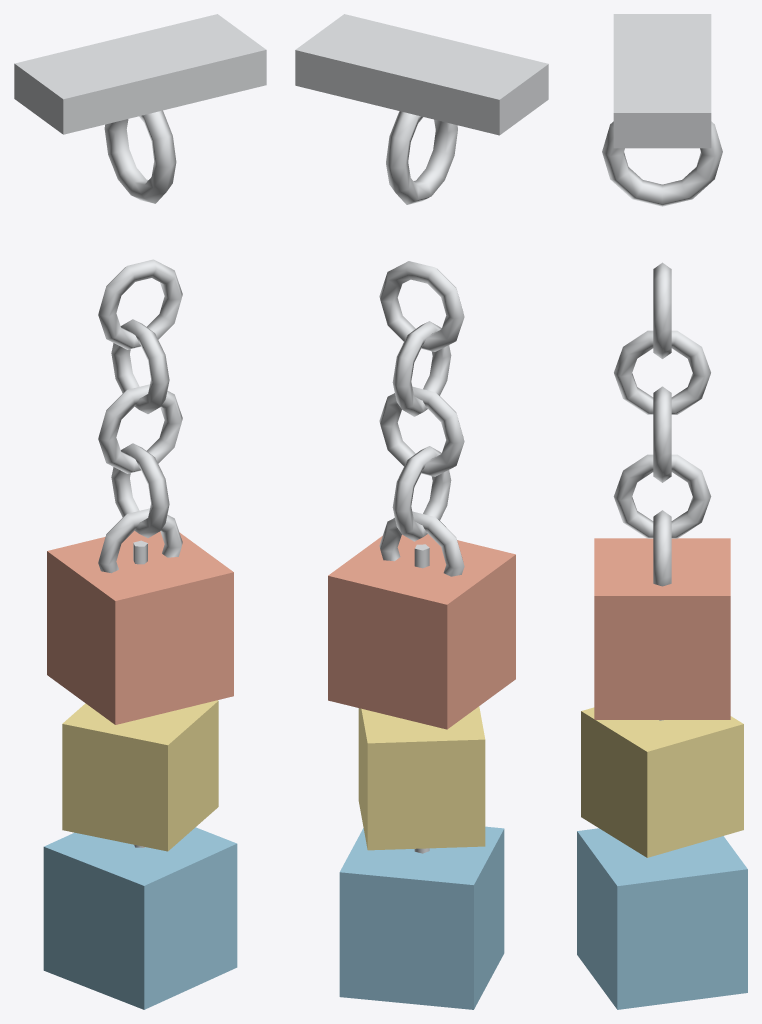
File: hanging_chew.glb
3 renders of one model, left to right at view 1: azimuth 30°, elevation 25°; view 2: azimuth 150°, elevation 25°; view 3: azimuth 270°, elevation 25°, orthographic.
Visible parts, largest first — view 1: chew_block_1, chew_block_3, chew_hook, chew_block_2, chew_chain; view 2: chew_block_1, chew_block_3, chew_hook, chew_block_2, chew_chain; view 3: chew_block_3, chew_block_1, chew_block_2, chew_hook, chew_chain.
Boxes of the visible parts, x1,y1,x2,y2 form: chew_block_1: [47, 530, 233, 724]; chew_block_3: [43, 827, 237, 1009]; chew_hook: [14, 14, 266, 203]; chew_block_2: [62, 700, 218, 851]; chew_chain: [98, 259, 182, 847]; chew_block_1: [328, 534, 515, 729]; chew_block_3: [339, 826, 504, 1009]; chew_hook: [295, 14, 548, 204]; chew_block_2: [358, 706, 485, 850]; chew_chain: [379, 261, 464, 853]; chew_block_3: [577, 828, 747, 1009]; chew_block_1: [594, 538, 730, 719]; chew_block_2: [581, 707, 743, 857]; chew_hook: [602, 14, 722, 206]; chew_chain: [613, 262, 711, 852].
Size of the model in its own units: 0.12 by 0.525 by 0.0876.
